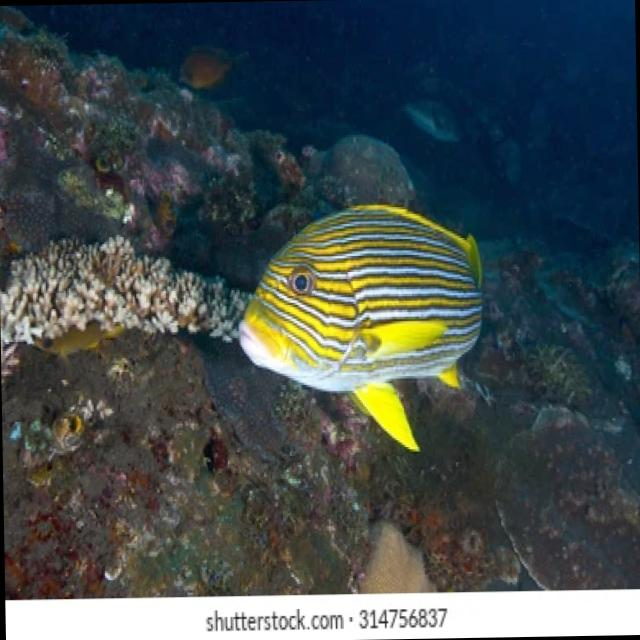RibbonedSweetlips: (234, 196, 488, 456)
